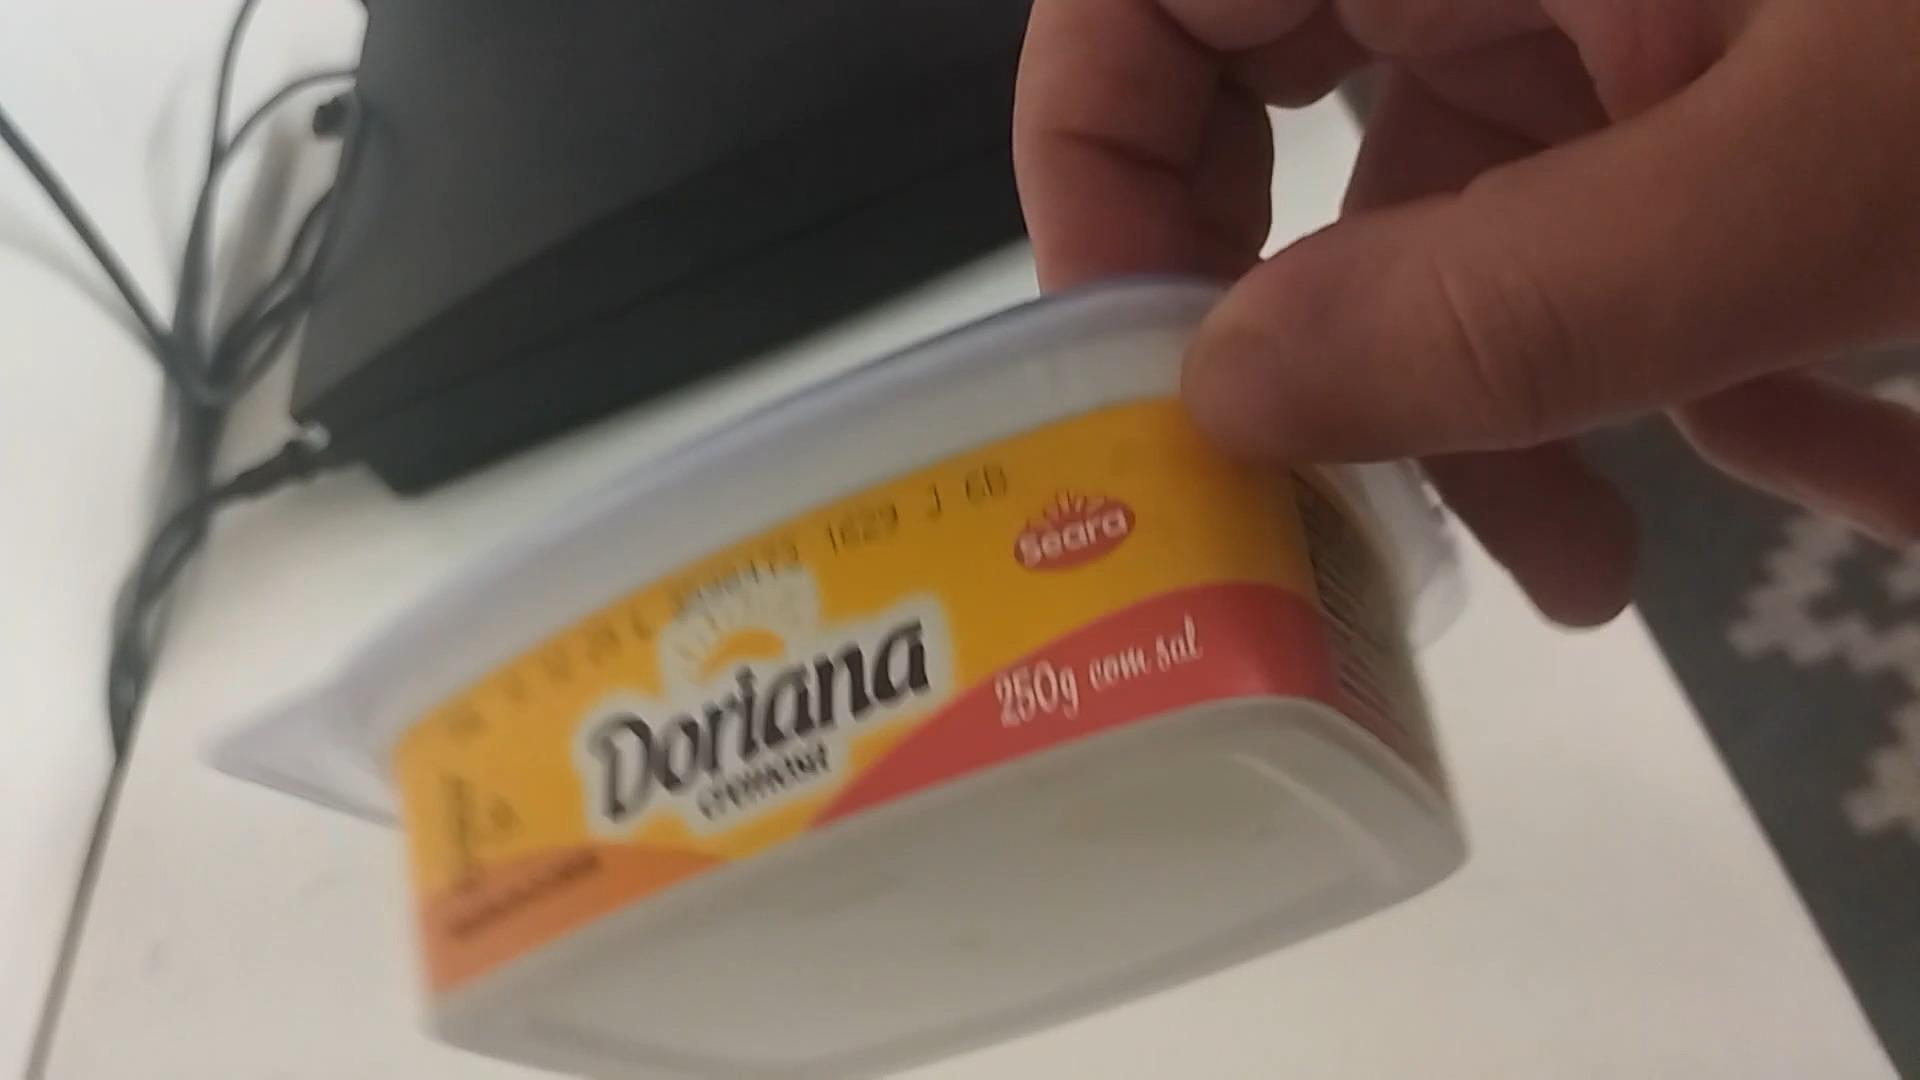butter: (218, 252, 1476, 1068)
